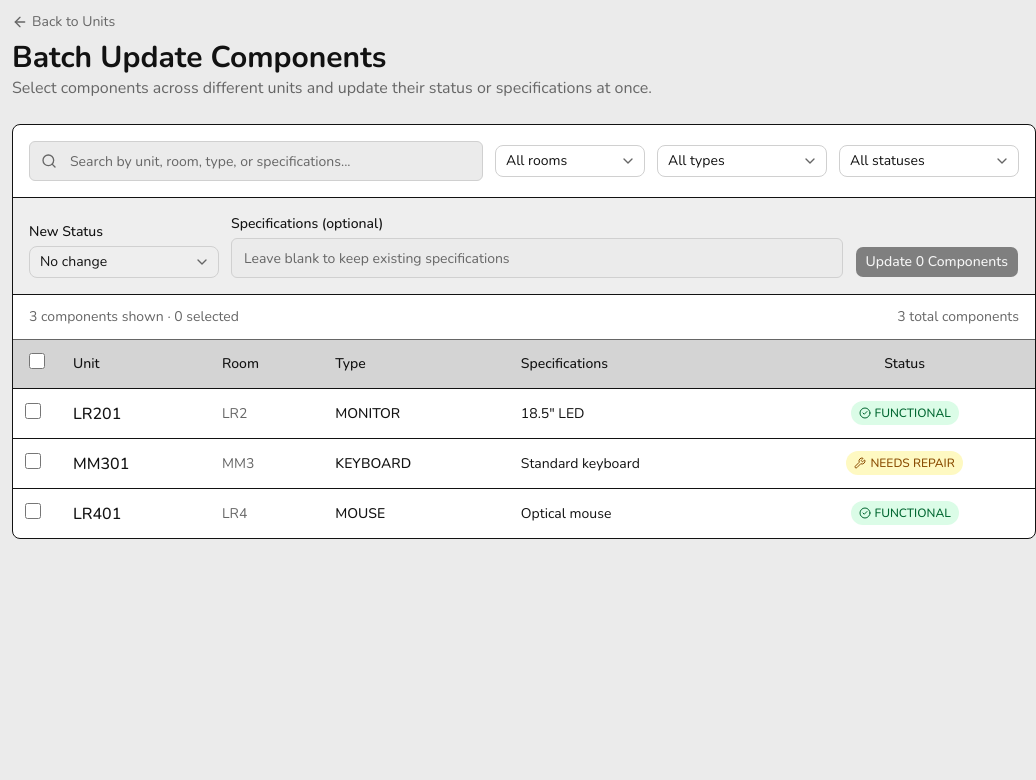
Scenario: BatchUpdateClient › selects all filtered components
The image size is (1036, 780).
Click the dropdown named "filter by room". click: {"x": 570, "y": 161}
box: x1=495 y1=145 x2=645 y2=177
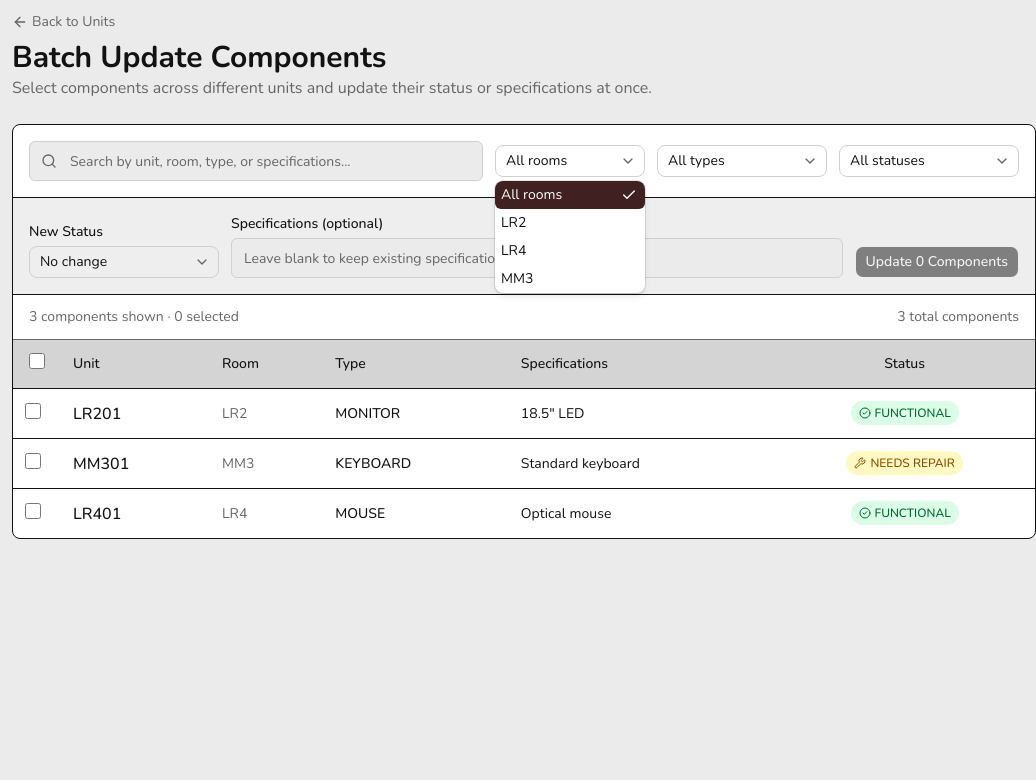
Click the option "LR4". click: {"x": 514, "y": 250}
box: x1=501 y1=241 x2=526 y2=260
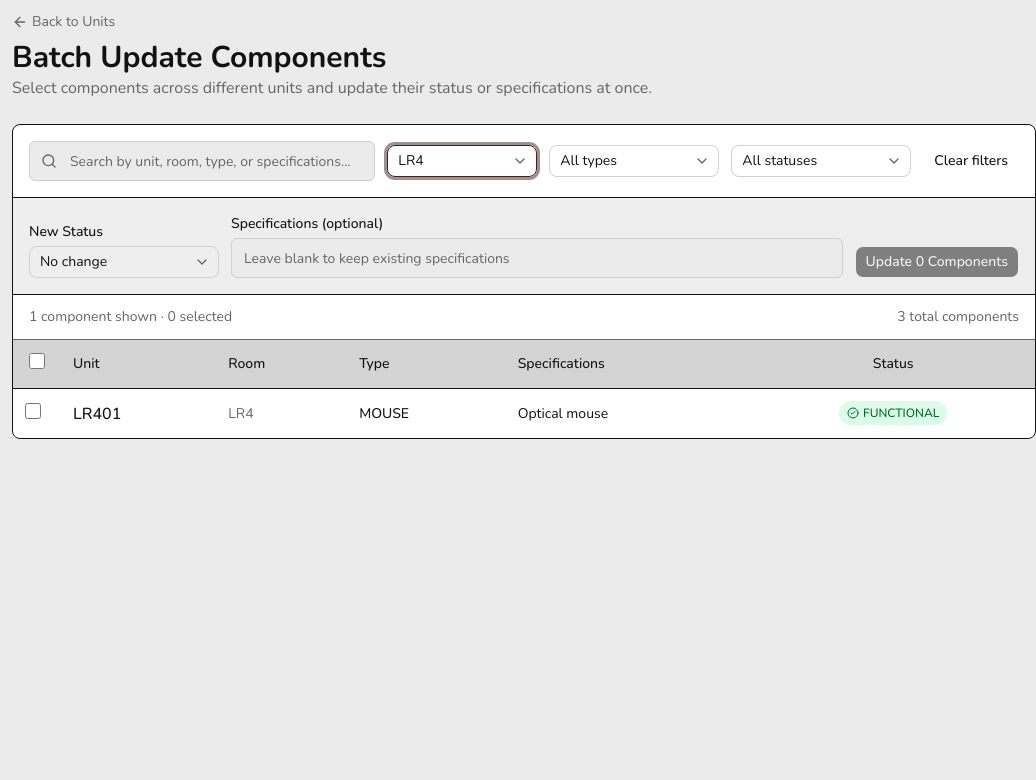
Click the checkbox named "select all filtered". click: {"x": 37, "y": 361}
box: x1=29 y1=353 x2=45 y2=369
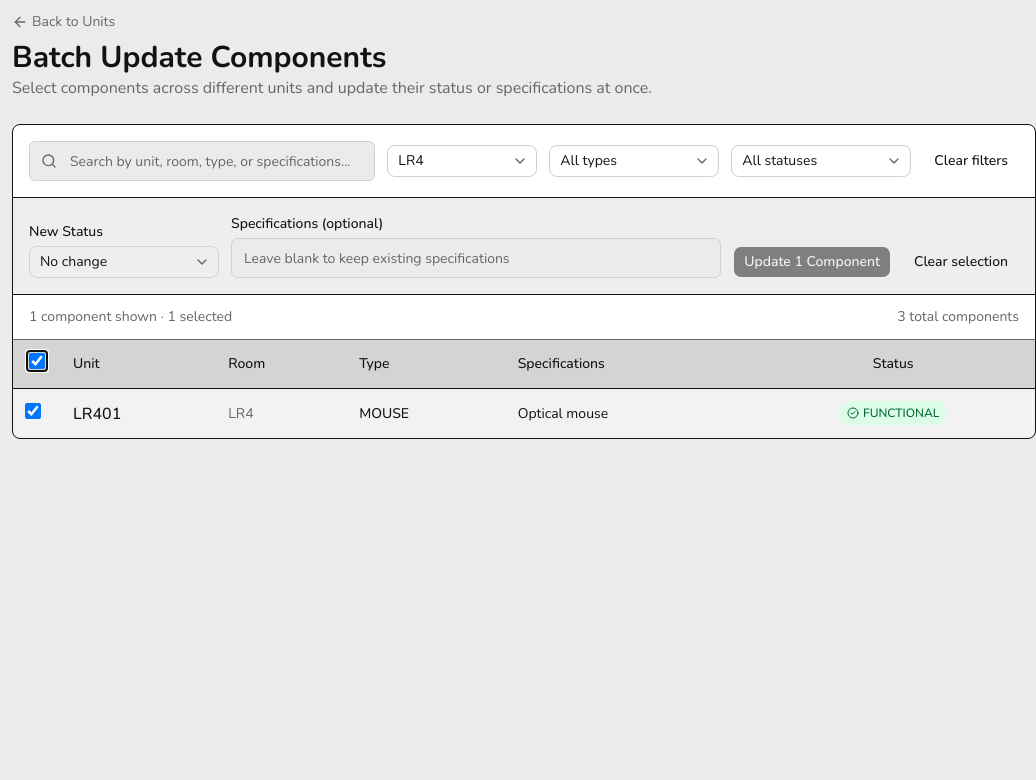
Check: the text "1 component shown · 1 selected" is shown, box x1=29 y1=307 x2=232 y2=327
Check: the checkbox named "Select LR401 MOUSE" is checked, box x1=25 y1=402 x2=41 y2=418
